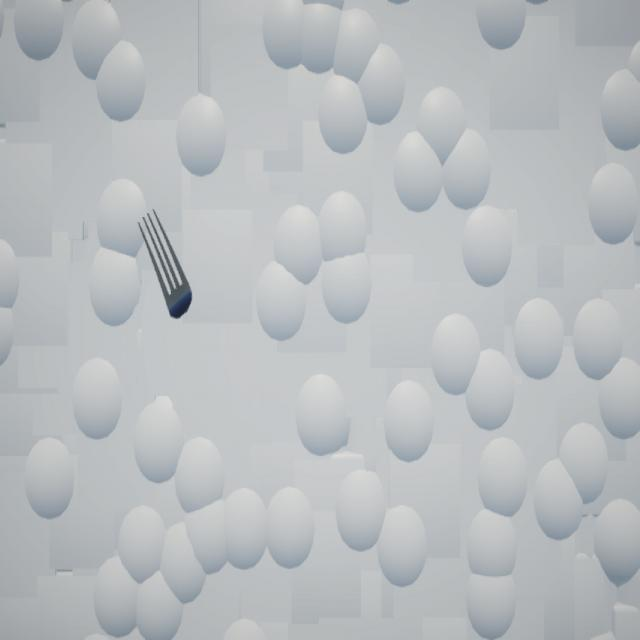top_folk: (138, 209, 194, 320)
